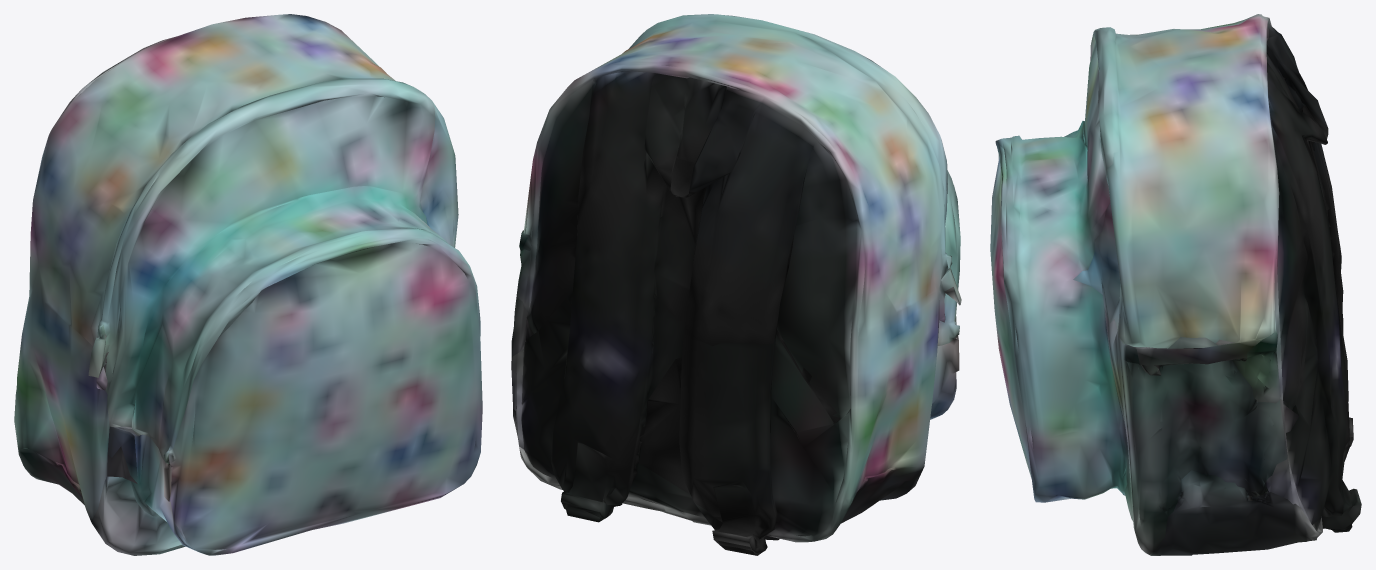
The model's file is Olive_Kids_Mermaids_Pack_n_Snack_Backpack-medium.glb.
3 renders of one model, left to right at view 1: azimuth 30°, elevation 25°; view 2: azimuth 150°, elevation 25°; view 3: azimuth 270°, elevation 25°, orthographic. The views are drawn at different scales.
Parts seen in each view (by area): view 1: Olive_Kids_Mermaids_Pack_n_Snack_Backpack; view 2: Olive_Kids_Mermaids_Pack_n_Snack_Backpack; view 3: Olive_Kids_Mermaids_Pack_n_Snack_Backpack.
Boxes of the visible parts, x1,y1,x2,y2 form: Olive_Kids_Mermaids_Pack_n_Snack_Backpack: (14, 14, 482, 555); Olive_Kids_Mermaids_Pack_n_Snack_Backpack: (511, 14, 961, 555); Olive_Kids_Mermaids_Pack_n_Snack_Backpack: (990, 14, 1361, 555).
Bounding box in the file's own units: 0.2844 × 0.3209 × 0.2417.
1 material, 1 textured.
